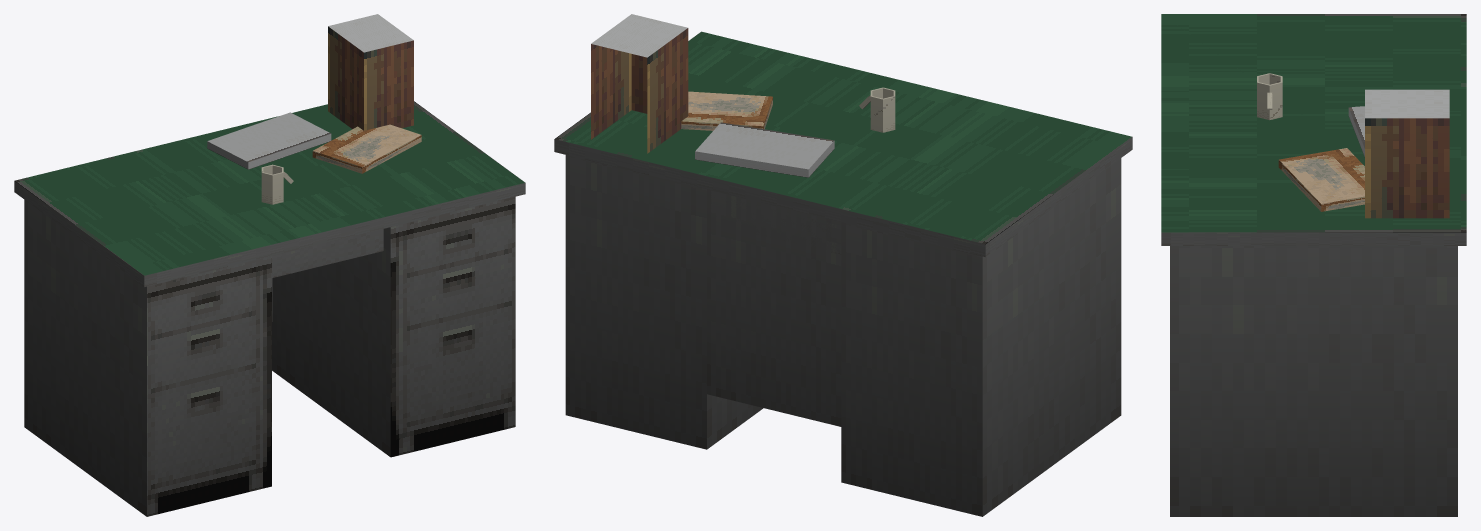
Rendered from prop_staffdesk-7.glb.
The picture shows the model from 3 angles, left to right: view 1: azimuth 30°, elevation 25°; view 2: azimuth 150°, elevation 25°; view 3: azimuth 270°, elevation 25°; orthographic projection. The views are drawn at different scales.
Parts seen in each view (by area): view 1: prop_staffdesk-7; view 2: prop_staffdesk-7; view 3: prop_staffdesk-7.
Boxes of the visible parts, x1=… form: prop_staffdesk-7: x1=14, y1=14, x2=525, y2=516; prop_staffdesk-7: x1=554, y1=14, x2=1132, y2=516; prop_staffdesk-7: x1=1161, y1=14, x2=1466, y2=516.
Size of the model in its own units: 1.21 by 0.9999 by 0.7128.
Materials: 6 (6 with a texture image).
